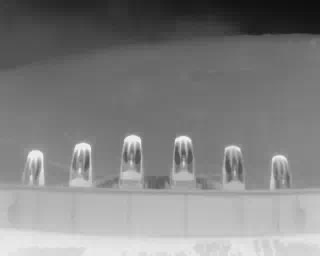claw: (120, 133, 144, 187), (170, 135, 195, 184), (222, 143, 247, 191), (69, 141, 93, 186), (22, 150, 45, 187), (271, 154, 292, 191)
